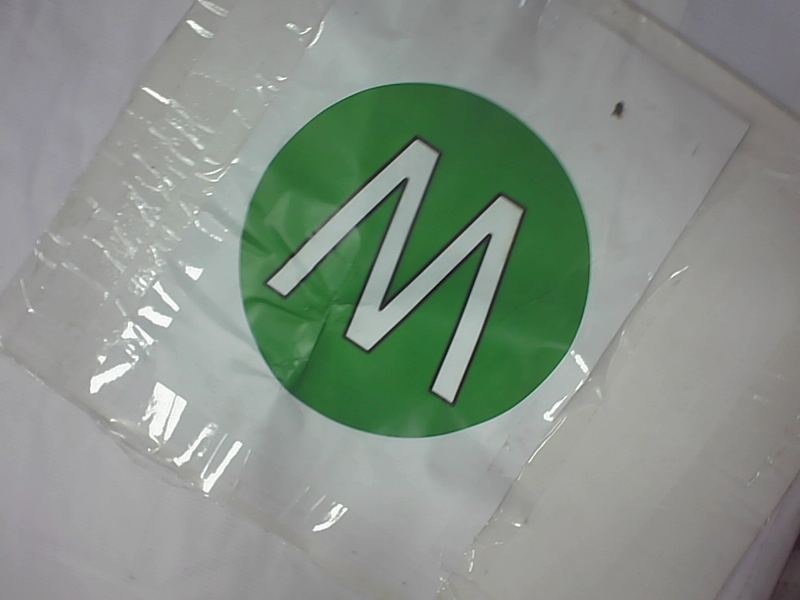areaB: (227, 74, 610, 446)
